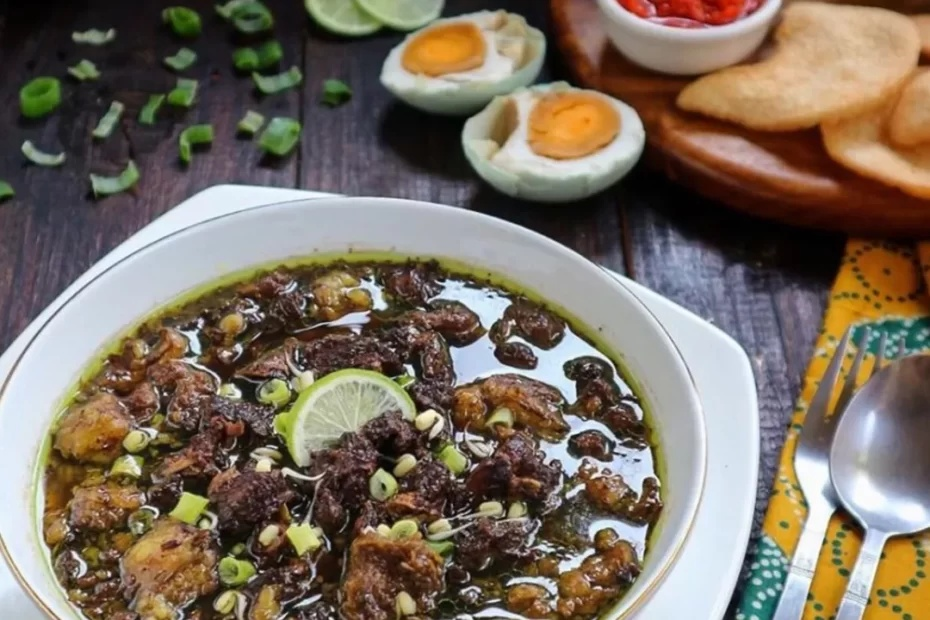rawon: (78, 273, 656, 613)
